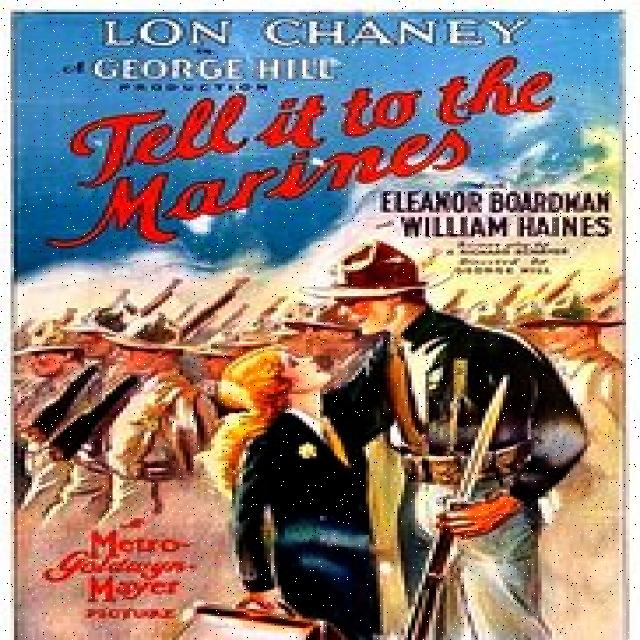movie-judul: (16, 13, 569, 246)
picture: (29, 251, 588, 640)
